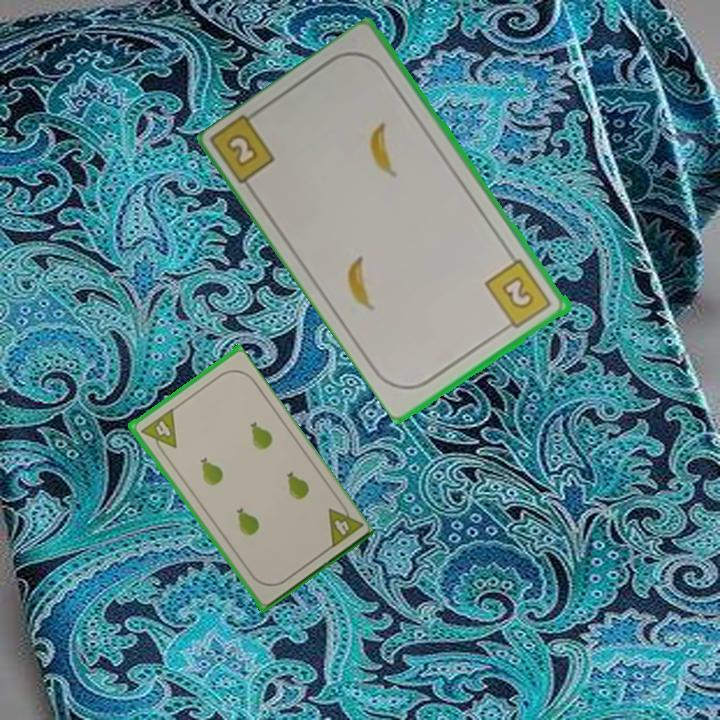2b: (482, 256, 555, 334), (223, 130, 262, 170)
4p: (136, 405, 180, 458), (324, 497, 365, 551)
